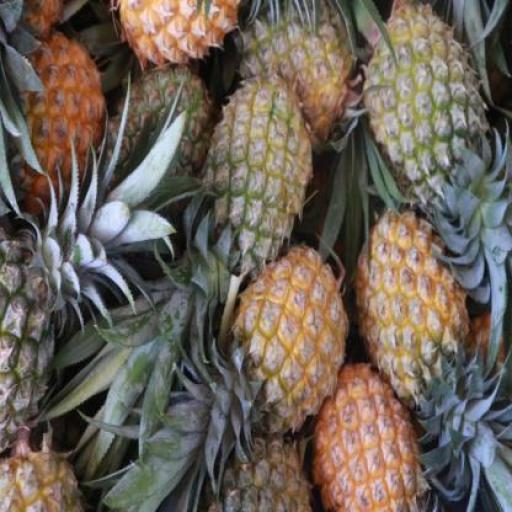------------------------------: (362, 0, 480, 214), (202, 79, 308, 274), (238, 3, 356, 146), (0, 232, 60, 484)
Pineapple - v8 v1: (354, 209, 463, 405), (0, 32, 107, 220), (232, 248, 340, 431), (317, 365, 430, 512)
